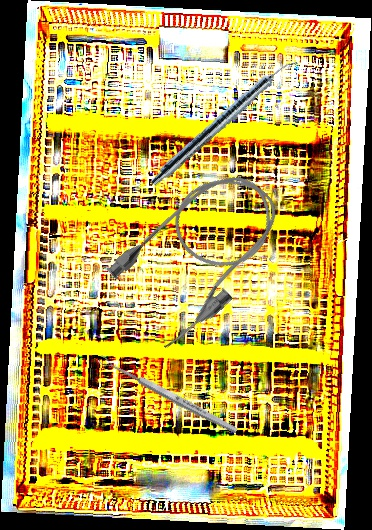Cannula: (97, 152, 303, 357)
Handpiece: (148, 52, 300, 191)
Surgical Spoon: (97, 353, 239, 436)
